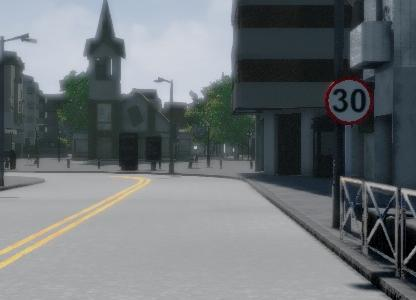Speed_30: (322, 73, 374, 127)
